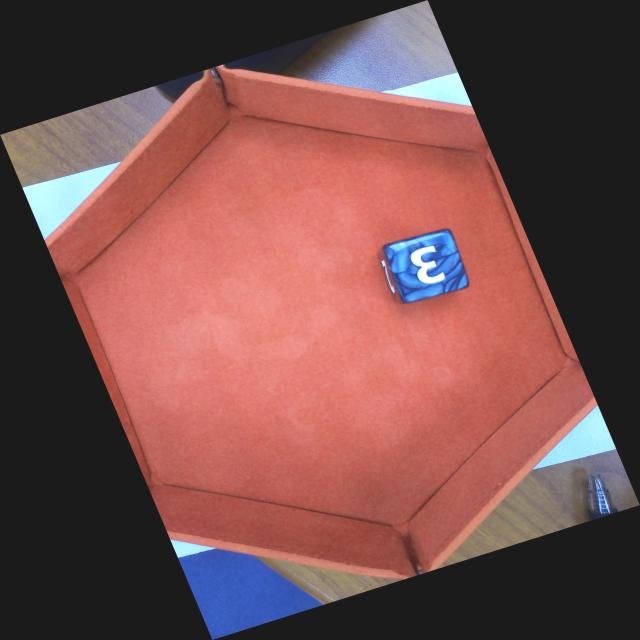dice: (381, 226, 474, 307)
